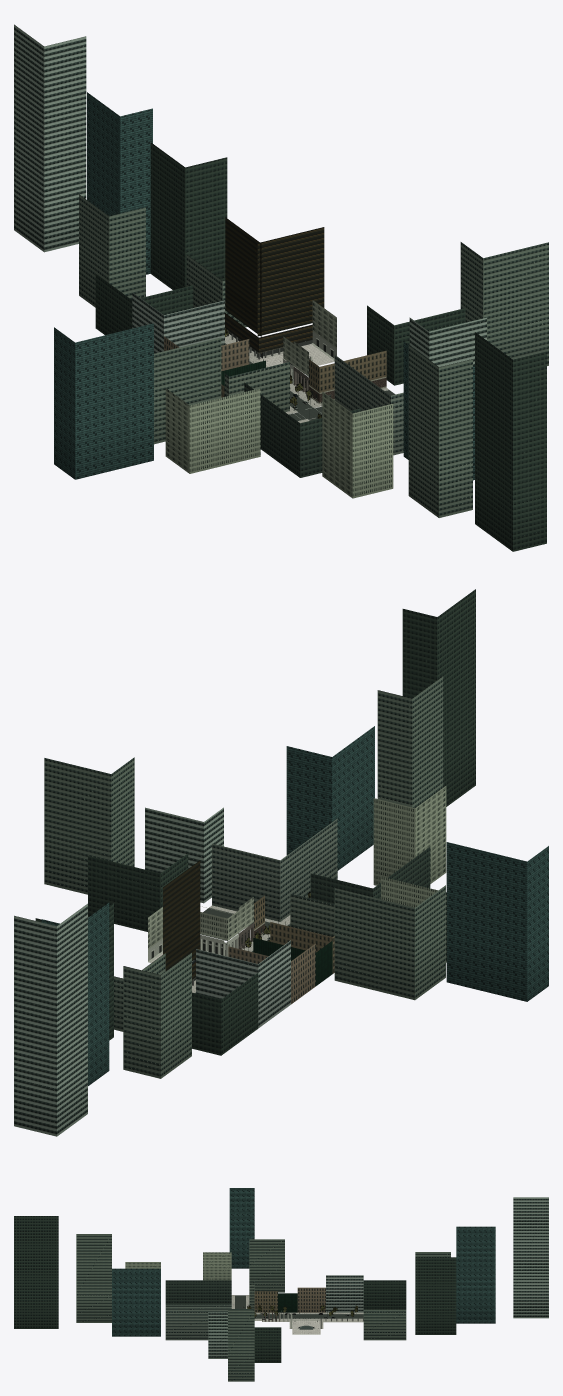
File: street.glb
3 views of the same model, one above another, from view 1: azimuth 30°, elevation 25°; view 2: azimuth 150°, elevation 25°; view 3: azimuth 270°, elevation 25° (orthographic). The views are drawn at different scales.
Parts seen in each view (by area): view 1: Fac_office, Fac_grid, Fac_glass, Fac_b, Fac_deco, Fac_bronze, Fac_sand, Paving, Granite; view 2: Fac_office, Fac_glass, Fac_b, Fac_grid, Fac_deco, Fac_bronze, Fac_sand, Fac_hoard, Stone; view 3: Fac_grid, Fac_office, Fac_glass, Fac_b, Fac_sand, Fac_deco, Paving, Asphalt, Fac_hoard.
Part boxes in pixels (x1,y1,x2,y2): Fac_office: (79, 194, 548, 517); Fac_grid: (95, 142, 546, 551); Fac_glass: (54, 92, 474, 480); Fac_b: (14, 24, 486, 366); Fac_deco: (165, 300, 393, 498); Fac_bronze: (225, 217, 324, 352); Fac_sand: (164, 336, 386, 397); Paving: (225, 334, 388, 423); Granite: (225, 330, 388, 421); Fac_office: (44, 676, 445, 1078); Fac_glass: (41, 726, 548, 1085); Fac_b: (14, 807, 290, 1136); Fac_grid: (35, 589, 475, 1055); Fac_deco: (148, 786, 446, 962); Fac_bronze: (163, 860, 200, 979); Fac_sand: (228, 895, 334, 1004); Fac_hoard: (253, 938, 332, 986); Stone: (148, 906, 265, 962); Fac_grid: (14, 1216, 456, 1362); Fac_office: (76, 1234, 450, 1381); Fac_glass: (112, 1188, 495, 1336); Fac_b: (208, 1197, 548, 1358); Fac_sand: (254, 1287, 325, 1312); Fac_deco: (125, 1252, 231, 1280); Paving: (231, 1295, 363, 1334); Asphalt: (235, 1295, 363, 1318); Fac_hoard: (278, 1293, 297, 1312).
Bounding box in the file's own units: 360 × 150 × 600.
21 materials, 21 textured.
